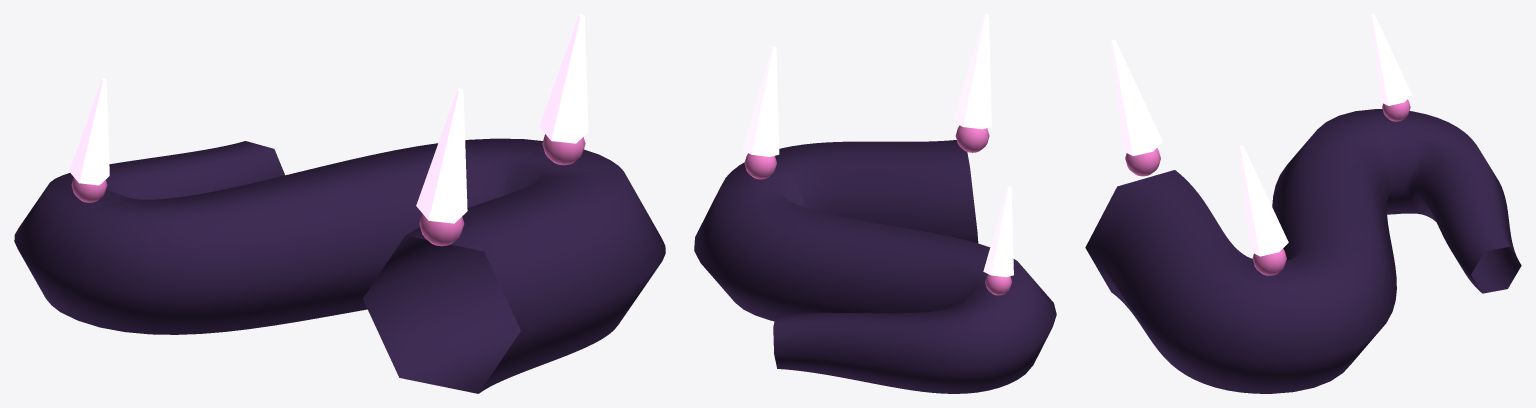
File: SM_Keeper_Apep_Body_F09.fbx
The picture shows the model from 3 angles, left to right: view 1: azimuth 30°, elevation 25°; view 2: azimuth 150°, elevation 25°; view 3: azimuth 270°, elevation 25°; orthographic projection. The views are drawn at different scales.
Parts seen in each view (by area): view 1: SM_Keeper_Apep_Body_F09; view 2: SM_Keeper_Apep_Body_F09; view 3: SM_Keeper_Apep_Body_F09.
Boxes of the visible parts, left/top/right/bottom form: SM_Keeper_Apep_Body_F09: left=14, top=14, right=665, bottom=393; SM_Keeper_Apep_Body_F09: left=694, top=14, right=1056, bottom=393; SM_Keeper_Apep_Body_F09: left=1085, top=14, right=1521, bottom=393.
Bounding box in the file's own units: 7.24 × 4.37 × 6.55.
